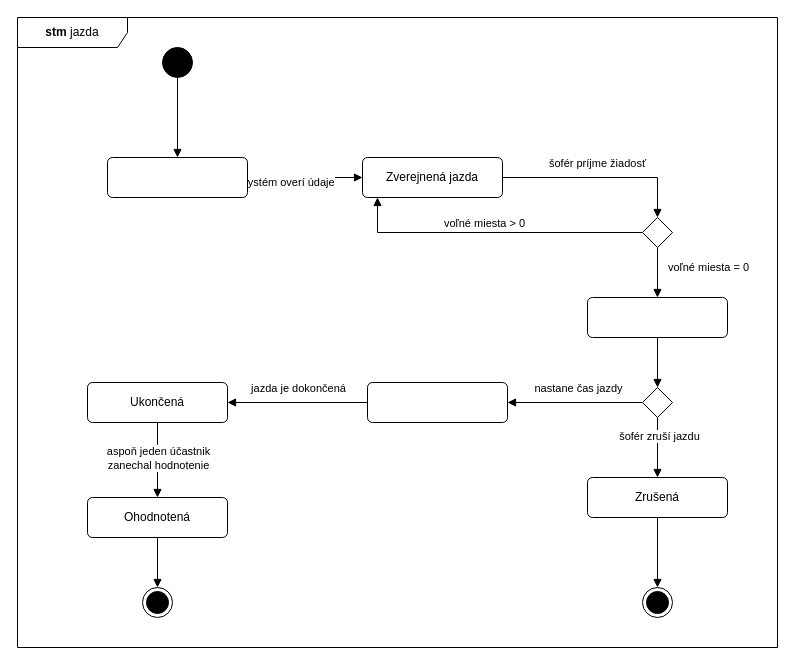
Image size: 795x665. Some labels were removed from this diagram. Here are the shapes that lost their labels. From the top down, the centre of each, then its label:
point (177, 177): Vytvorená nová jazda
point (657, 317): Obsadená jazda
point (437, 402): Aktívna jazda
